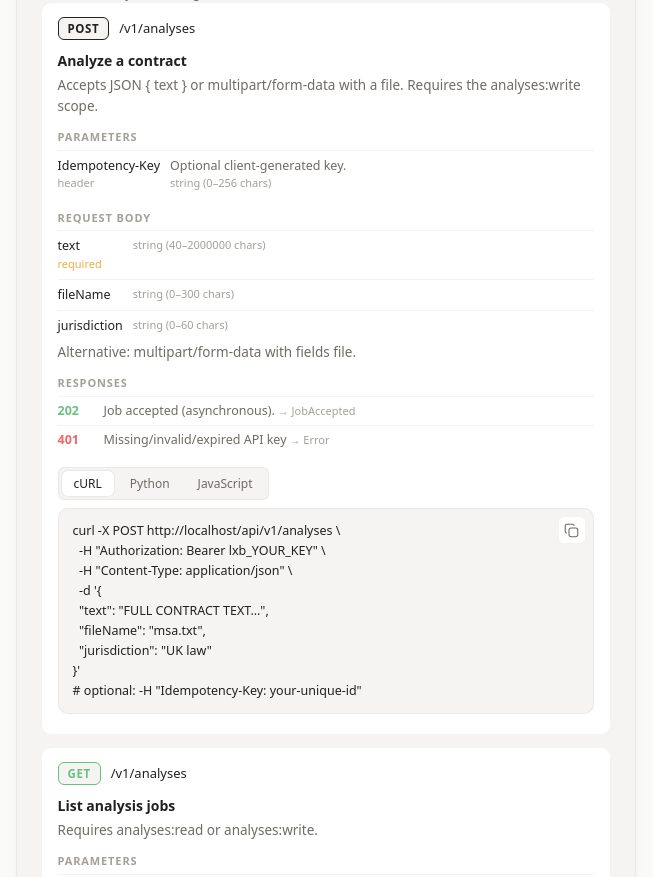
Test: ApiDocsPage — рендер OpenAPI-спеки › cURL-пример собран из схемы; переключатель показывает Python и JavaScript
(page scrolled)
Step 1. Click the tab "Python" → (150, 484), box x1=118 y1=471 x2=182 y2=496
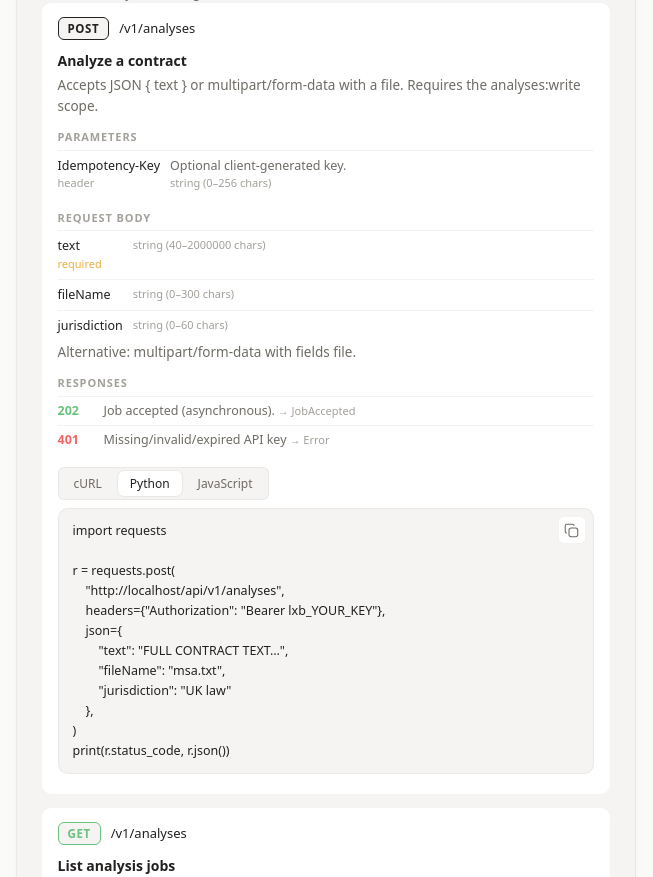
Step 2. Click the tab "JavaScript" → (225, 484), box x1=186 y1=471 x2=265 y2=496
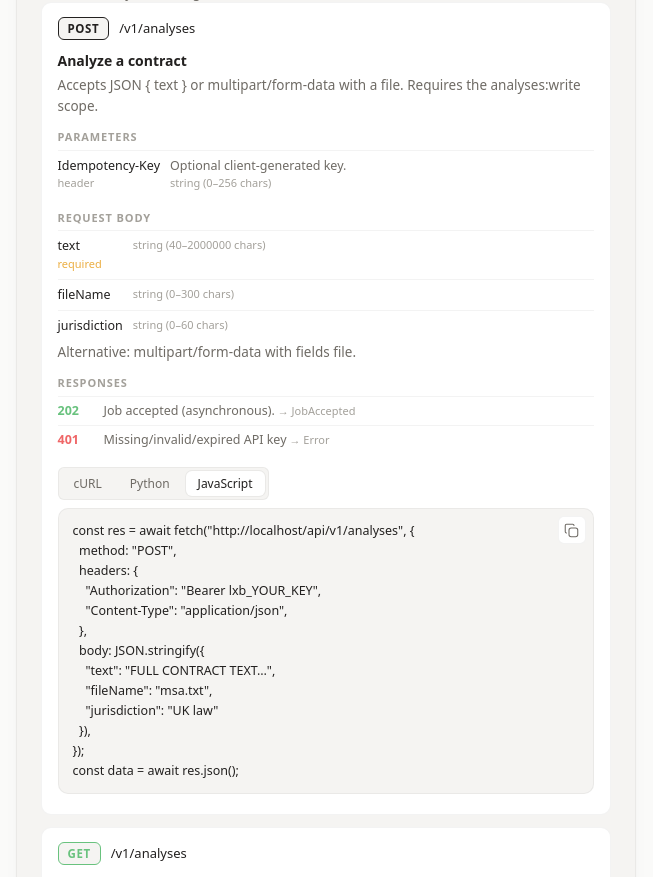
Expected: the text "await fetch(" is shown, x1=72 y1=522 x2=414 y2=779
